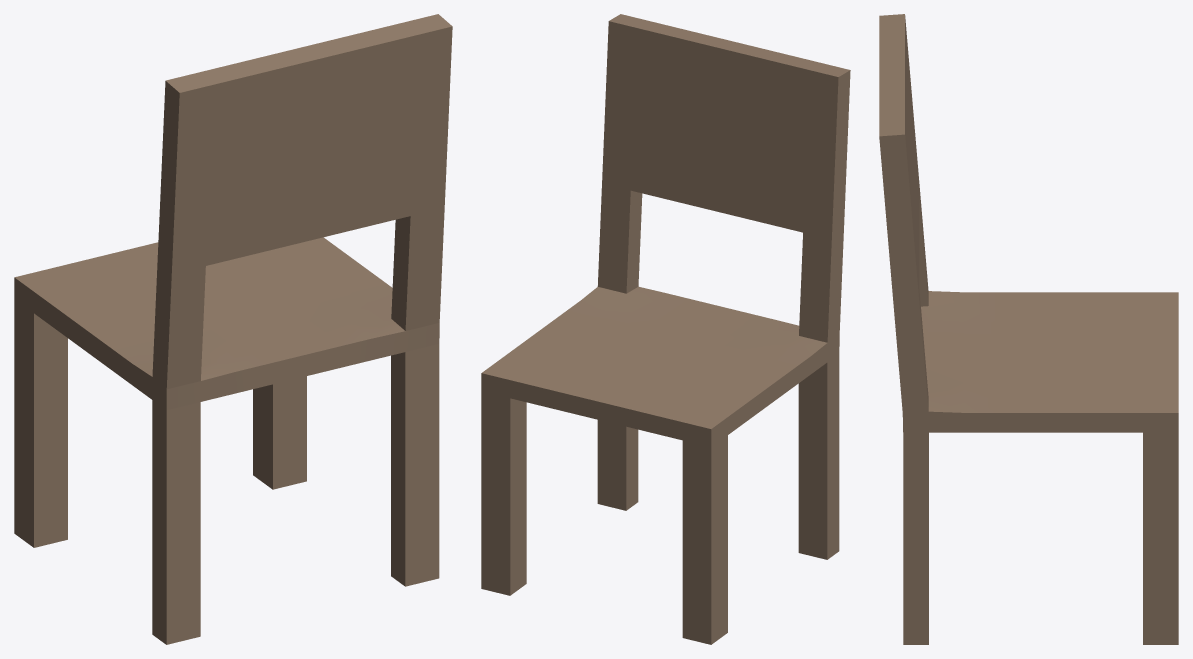
File: Chair.fbx
3 renders of one model, left to right at view 1: azimuth 30°, elevation 25°; view 2: azimuth 150°, elevation 25°; view 3: azimuth 270°, elevation 25°, orthographic. The views are drawn at different scales.
Visible parts, largest first — view 1: Chair_GEO; view 2: Chair_GEO; view 3: Chair_GEO.
Part boxes in pixels (x1,y1,x2,y2): Chair_GEO: [14, 14, 452, 644]; Chair_GEO: [481, 14, 850, 644]; Chair_GEO: [879, 14, 1178, 644].
Size of the model in its own units: 6.09 by 12.01 by 6.39.
